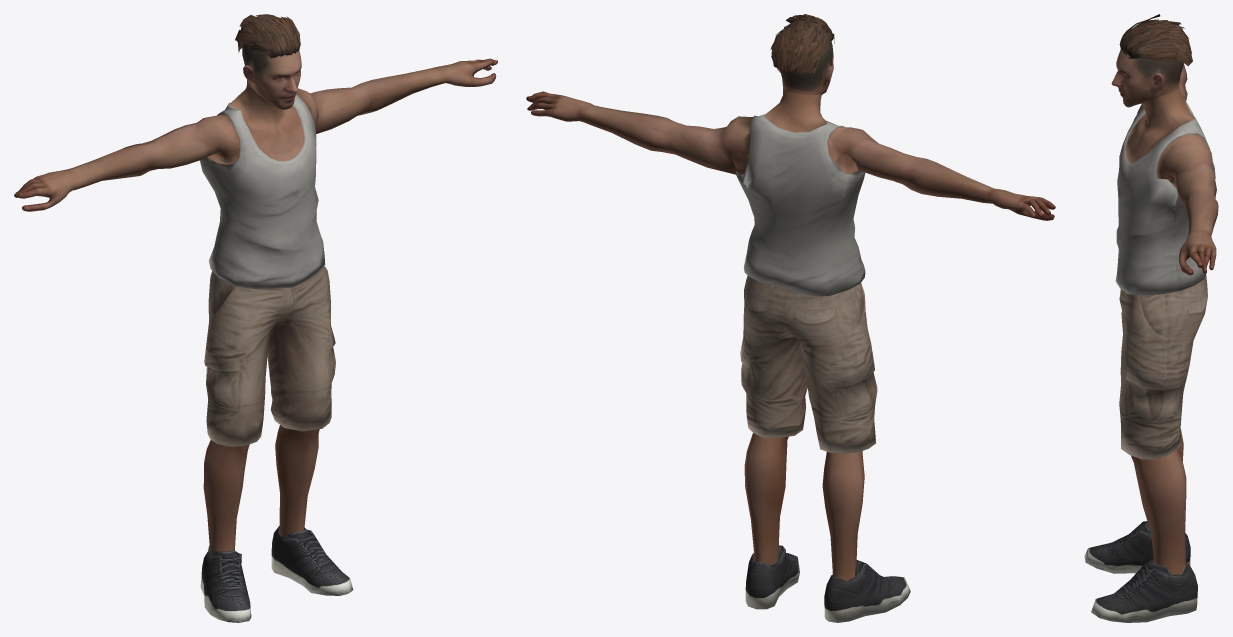
File: freefire_new_tpose_adam_model_by_pace_gaming.glb
The picture shows the model from 3 angles, left to right: view 1: azimuth 30°, elevation 25°; view 2: azimuth 150°, elevation 25°; view 3: azimuth 270°, elevation 25°; orthographic projection. The views are drawn at different scales.
Parts seen in each view (by area): view 1: Object_3, Object_6, Object_2, Object_5, Object_4; view 2: Object_3, Object_6, Object_2, Object_5, Object_4; view 3: Object_3, Object_6, Object_2, Object_5, Object_4.
Part boxes in pixels (x1=…): Object_3: x1=14, y1=43, x2=497, y2=554; Object_6: x1=204, y1=265, x2=335, y2=446; Object_2: x1=200, y1=94, x2=325, y2=288; Object_5: x1=200, y1=526, x2=353, y2=622; Object_4: x1=235, y1=14, x2=300, y2=58; Object_3: x1=526, y1=40, x2=1055, y2=581; Object_6: x1=740, y1=275, x2=877, y2=453; Object_2: x1=736, y1=114, x2=865, y2=296; Object_5: x1=745, y1=545, x2=910, y2=622; Object_4: x1=770, y1=14, x2=834, y2=74; Object_3: x1=1111, y1=49, x2=1218, y2=574; Object_6: x1=1119, y1=275, x2=1207, y2=459; Object_2: x1=1115, y1=102, x2=1215, y2=295; Object_5: x1=1084, y1=521, x2=1197, y2=622; Object_4: x1=1119, y1=14, x2=1192, y2=66.
Bounding box in the file's own units: 7.35 × 8.01 × 1.7.
Materials: 5 (5 with a texture image).
